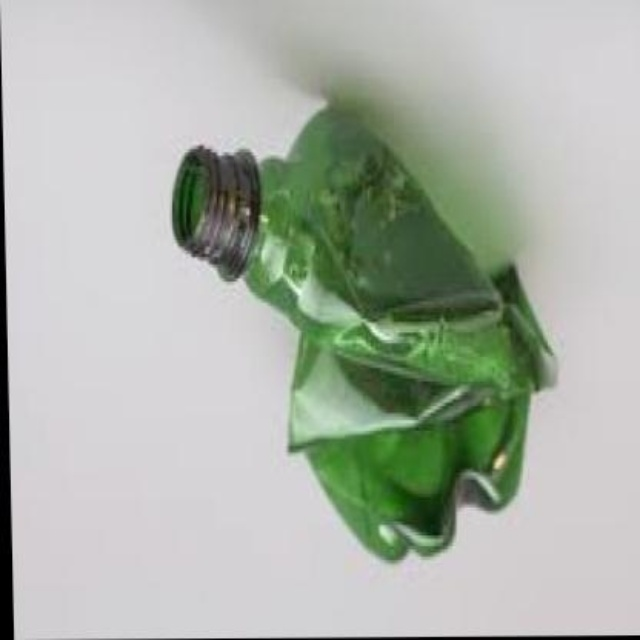trash: (172, 108, 554, 558)
